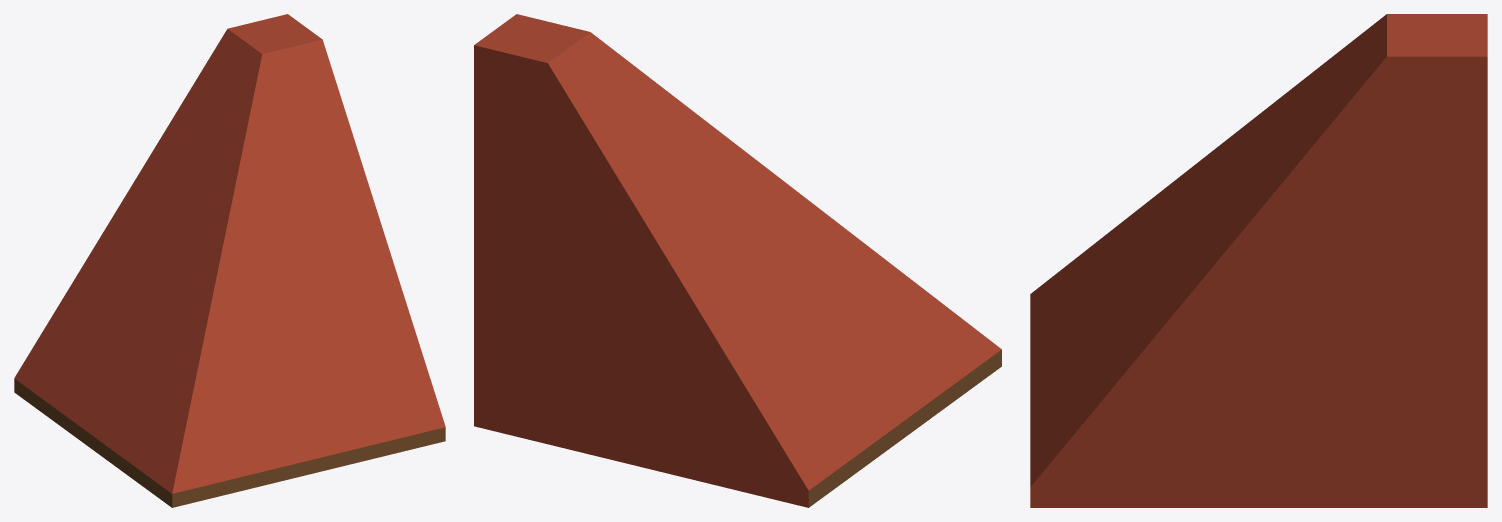
File: Dach_Naroznik.fbx
3 renders of one model, left to right at view 1: azimuth 30°, elevation 25°; view 2: azimuth 150°, elevation 25°; view 3: azimuth 270°, elevation 25°, orthographic. The views are drawn at different scales.
Parts seen in each view (by area): view 1: Dach_Naroznik; view 2: Dach_Naroznik; view 3: Dach_Naroznik.
Boxes of the visible parts, box(x1,y1,x2,y2) form: Dach_Naroznik: box(14, 14, 445, 507); Dach_Naroznik: box(474, 14, 1001, 507); Dach_Naroznik: box(1030, 14, 1487, 507).
Bounding box in the file's own units: 3.4 × 3.7 × 3.4.
